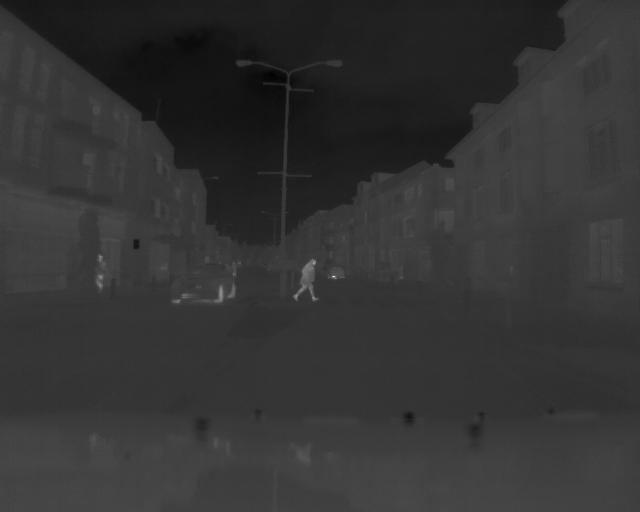car: (168, 259, 239, 306), (325, 261, 348, 282)
person: (292, 256, 320, 303), (90, 253, 111, 293)
